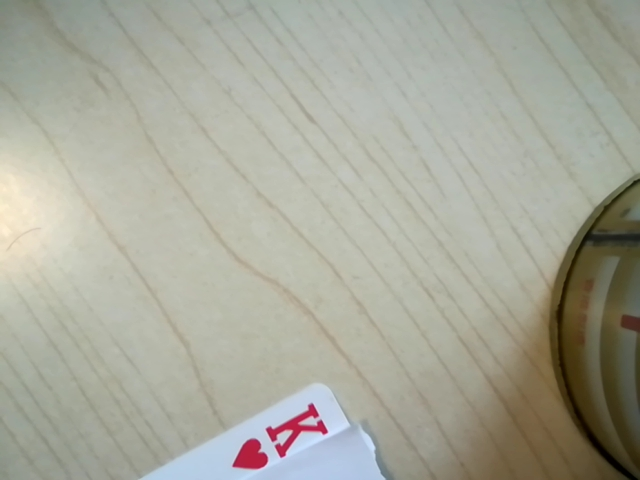hx k: (225, 400, 344, 472)
